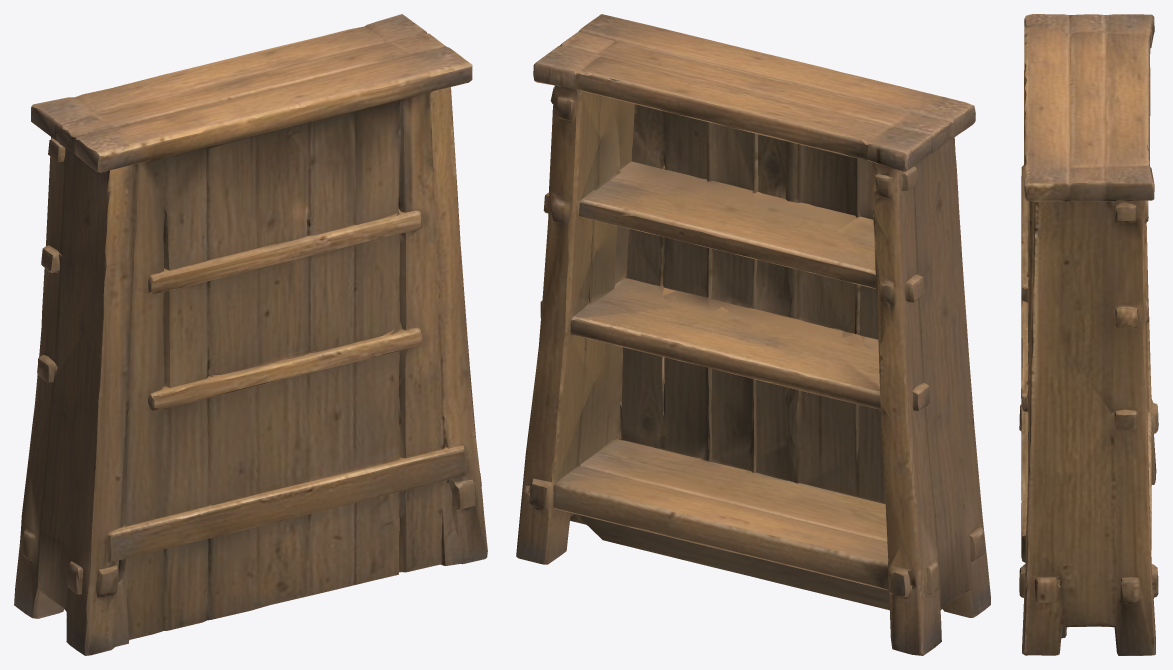
3 views of the same model, side by side, from view 1: azimuth 30°, elevation 25°; view 2: azimuth 150°, elevation 25°; view 3: azimuth 270°, elevation 25° (orthographic). The views are drawn at different scales.
Visible parts, largest first — view 1: geometry_0; view 2: geometry_0; view 3: geometry_0.
Part boxes in pixels (box(x1,y1,x2,y2)): geometry_0: box(14, 14, 487, 655); geometry_0: box(516, 14, 990, 655); geometry_0: box(1019, 14, 1158, 655).
Bounding box in the file's own units: 0.7708 × 0.9 × 0.2437.
Materials: 1 (1 with a texture image).
